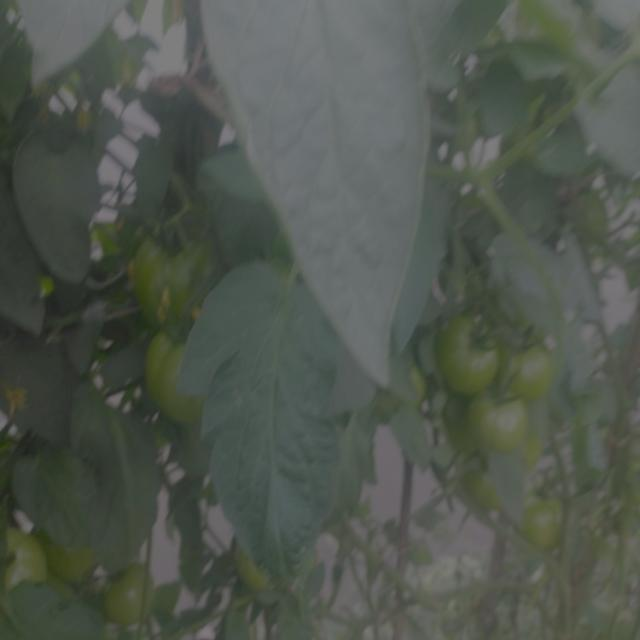tomato: (130, 217, 217, 332), (140, 325, 213, 428), (428, 305, 501, 394), (496, 327, 563, 404), (465, 394, 542, 459), (227, 532, 286, 609), (44, 519, 103, 591), (99, 563, 162, 626), (520, 483, 572, 556), (1, 523, 50, 599), (567, 182, 618, 252), (457, 466, 509, 517), (3, 373, 43, 439), (36, 262, 66, 310)
